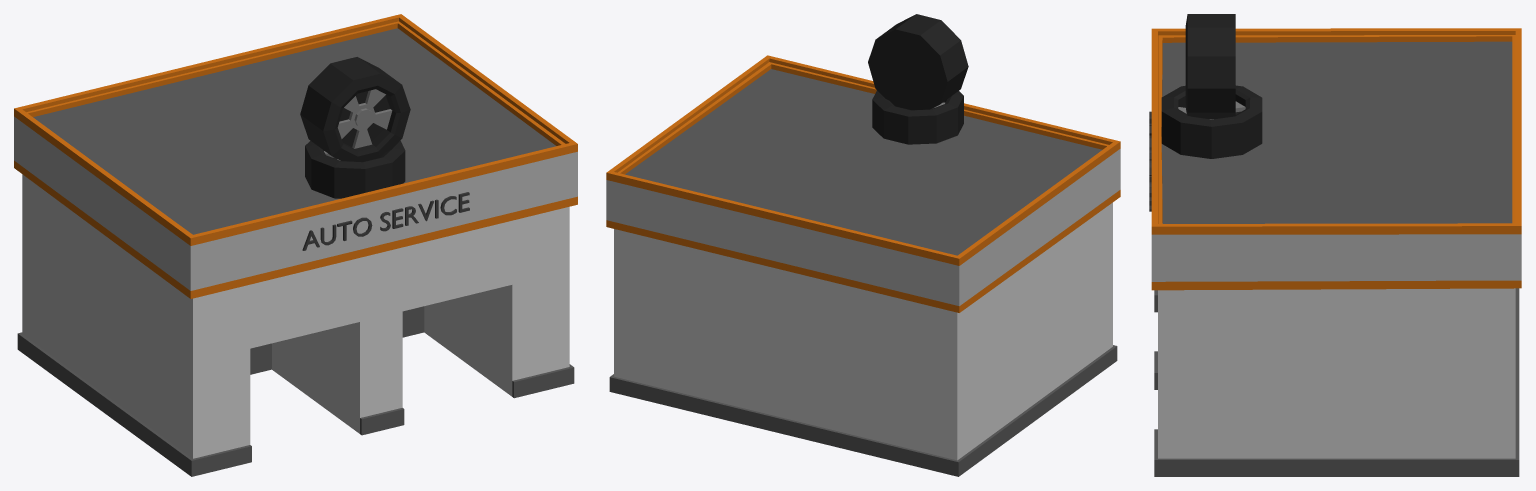
The model's file is AutoService_01.glb.
3 views of the same model, side by side, from view 1: azimuth 30°, elevation 25°; view 2: azimuth 150°, elevation 25°; view 3: azimuth 270°, elevation 25° (orthographic). The views are drawn at different scales.
Parts seen in each view (by area): view 1: AutoService_01; view 2: AutoService_01; view 3: AutoService_01.
Boxes of the visible parts, x1=… form: AutoService_01: x1=14, y1=14, x2=577, y2=476; AutoService_01: x1=606, y1=14, x2=1120, y2=476; AutoService_01: x1=1149, y1=14, x2=1521, y2=476.
Size of the model in its own units: 8.93 by 7.54 by 7.11.
Materials: 1 (1 with a texture image).
